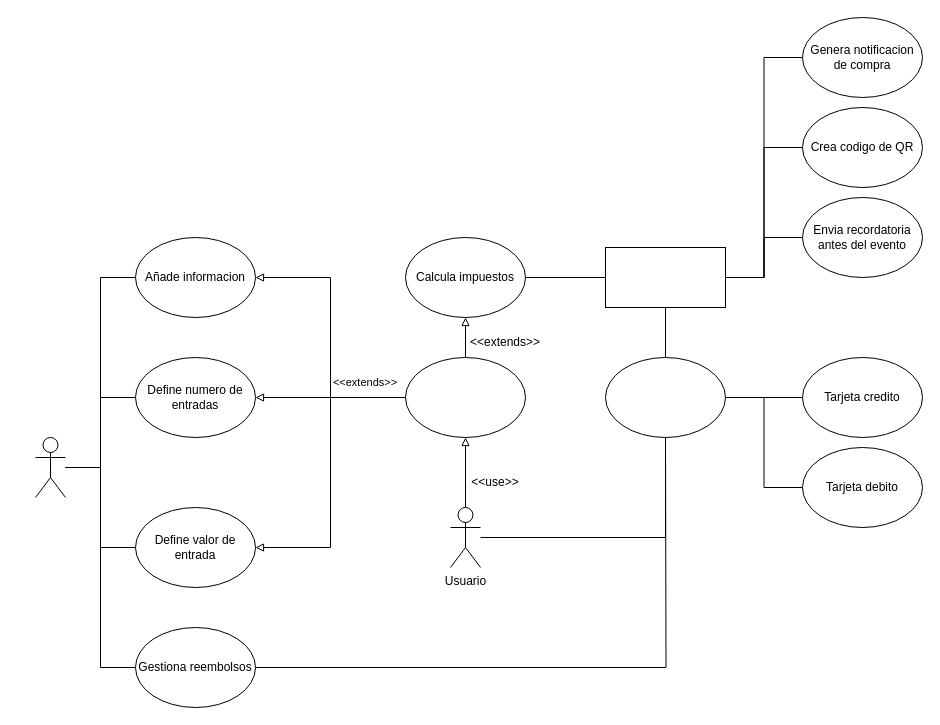
The diagram is 940 pixels wide and 725 high, and some of its shapes have lost their labels. Here are the shapes that lost their labels. From the top down, the centre of each, then its label:
At point (665, 277): "Sistema".
At point (465, 397): "Evento".
At point (665, 397): "Transaccion".
At point (50, 467): "Organizador".
